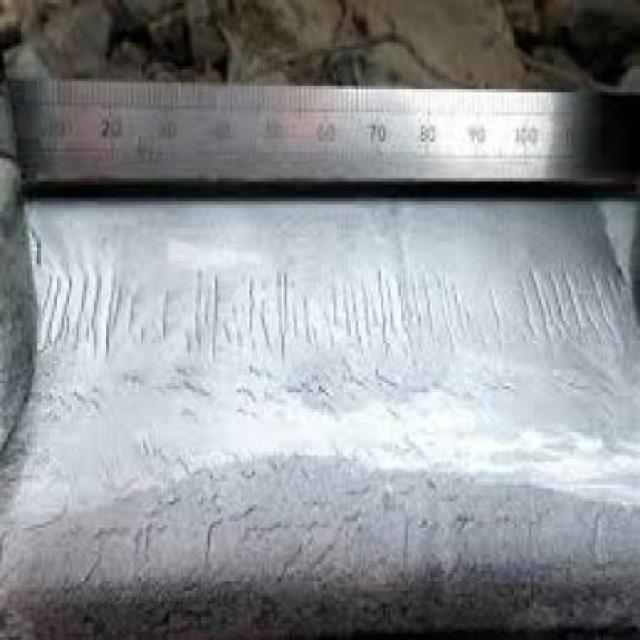defective: (1, 123, 640, 640)
